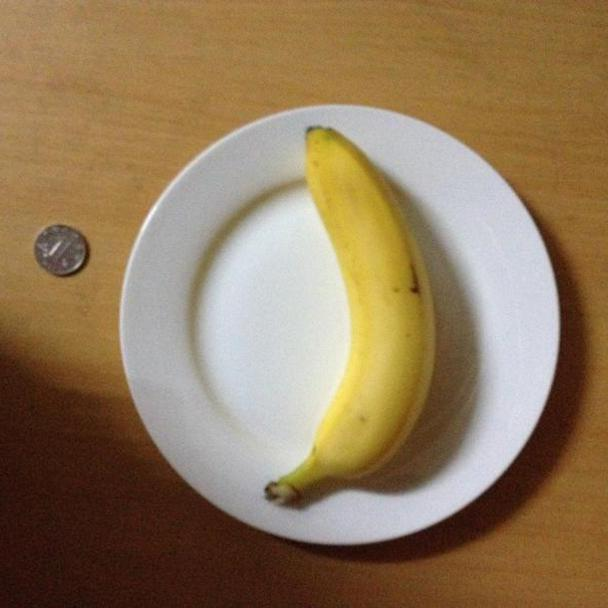banana: (282, 124, 446, 502)
